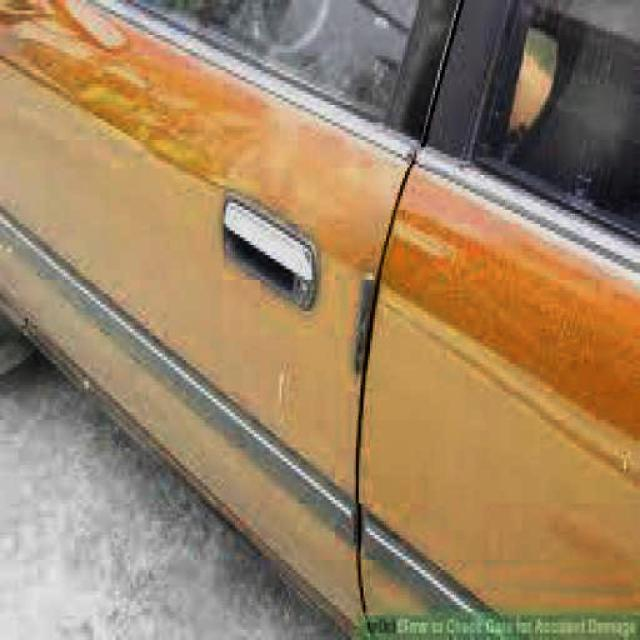car damage: (241, 94, 417, 263)
